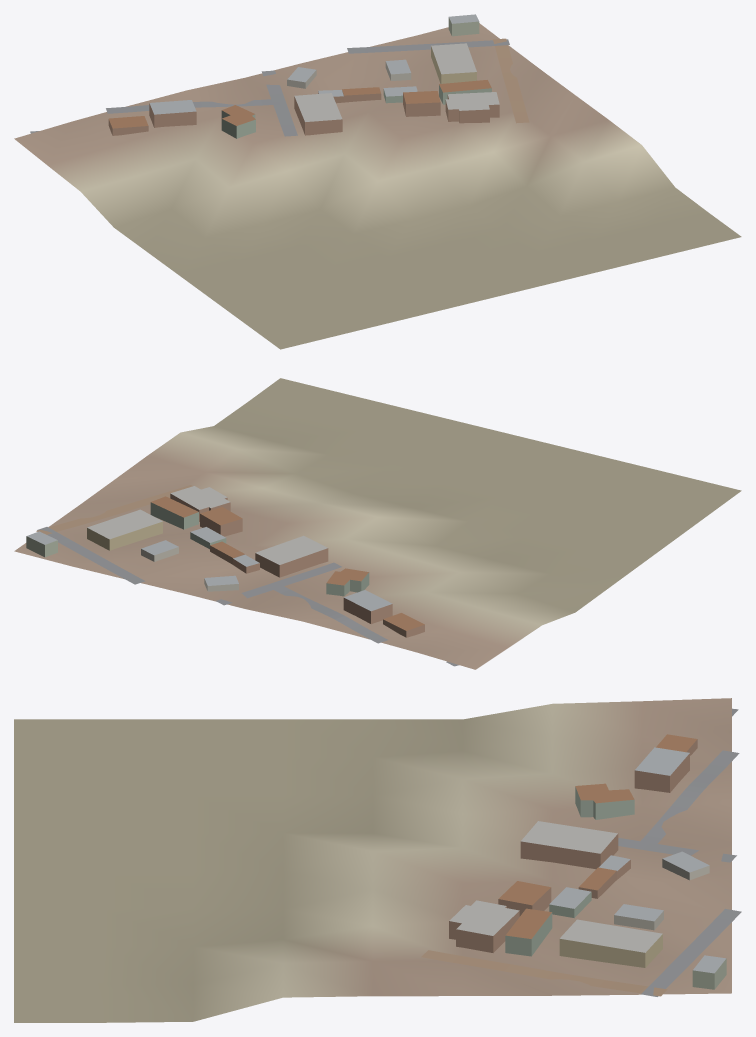
3 renders of one model, top to bottom at view 1: azimuth 30°, elevation 25°; view 2: azimuth 150°, elevation 25°; view 3: azimuth 270°, elevation 25°, orthographic. The views are drawn at different scales.
Parts seen in each view (by area): view 1: Lo; view 2: Lo; view 3: Lo.
Part boxes in pixels (bbox=[...]): Lo: bbox=[14, 14, 741, 349]; Lo: bbox=[14, 378, 741, 669]; Lo: bbox=[14, 698, 741, 1022].
Bounding box in the file's own units: 259 × 17.88 × 260.
